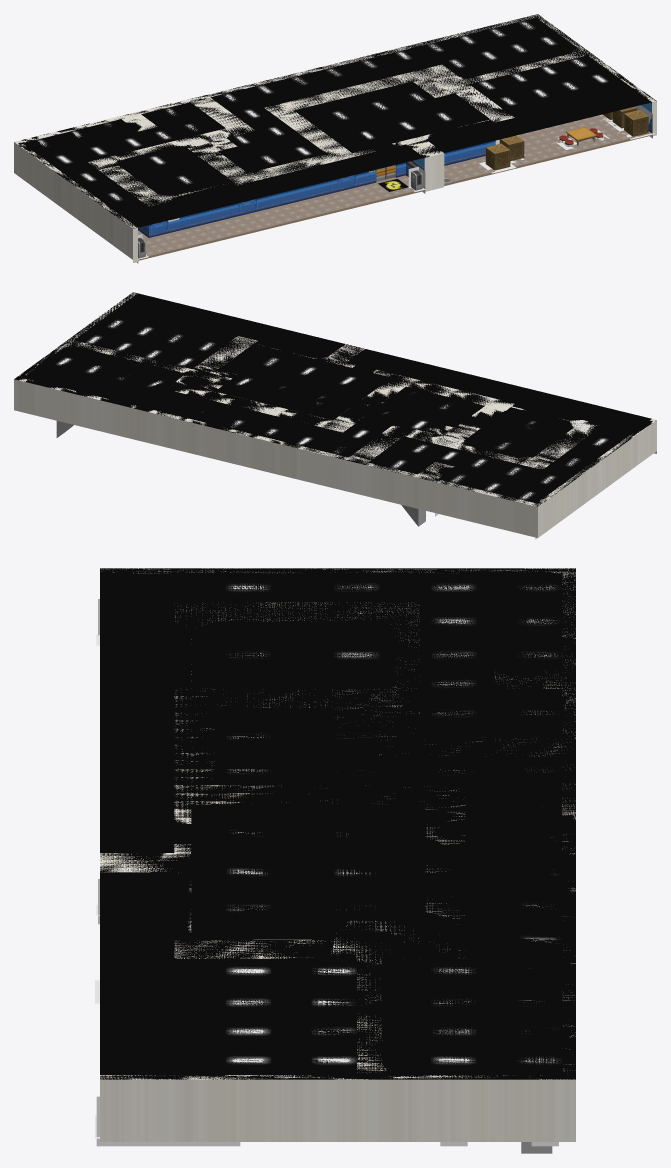
3 views of the same model, one above another, from view 1: azimuth 30°, elevation 25°; view 2: azimuth 150°, elevation 25°; view 3: azimuth 270°, elevation 25° (orthographic). The views are drawn at different scales.
Visible parts, largest first — view 1: P_D_006_Wall_01_3F_01, P_D_006_Floor_01_3F_01, P_C_001_ComWall_01, P_C_001_Woodbox_01, P_C_001_Woodbox_01__3_, P_C_001_ComWall_01_02__1_, P_C_001_Woodbox_01__1_; view 2: P_D_006_Wall_01_3F_01; view 3: P_D_006_Wall_01_3F_01.
Boxes of the visible parts, x1=… form: P_D_006_Wall_01_3F_01: x1=14, y1=14, x2=656, y2=262; P_D_006_Floor_01_3F_01: x1=138, y1=114, x2=651, y2=258; P_C_001_ComWall_01: x1=138, y1=190, x2=424, y2=260; P_C_001_Woodbox_01: x1=485, y1=143, x2=510, y2=170; P_C_001_Woodbox_01__3_: x1=624, y1=109, x2=648, y2=136; P_C_001_ComWall_01_02__1_: x1=444, y1=135, x2=651, y2=185; P_C_001_Woodbox_01__1_: x1=499, y1=135, x2=524, y2=161; P_D_006_Wall_01_3F_01: x1=14, y1=292, x2=656, y2=537; P_D_006_Wall_01_3F_01: x1=100, y1=568, x2=575, y2=1141.
Size of the model in its own units: 0.53 by 0.0531 by 0.2108.
Materials: 22 (22 with a texture image).
